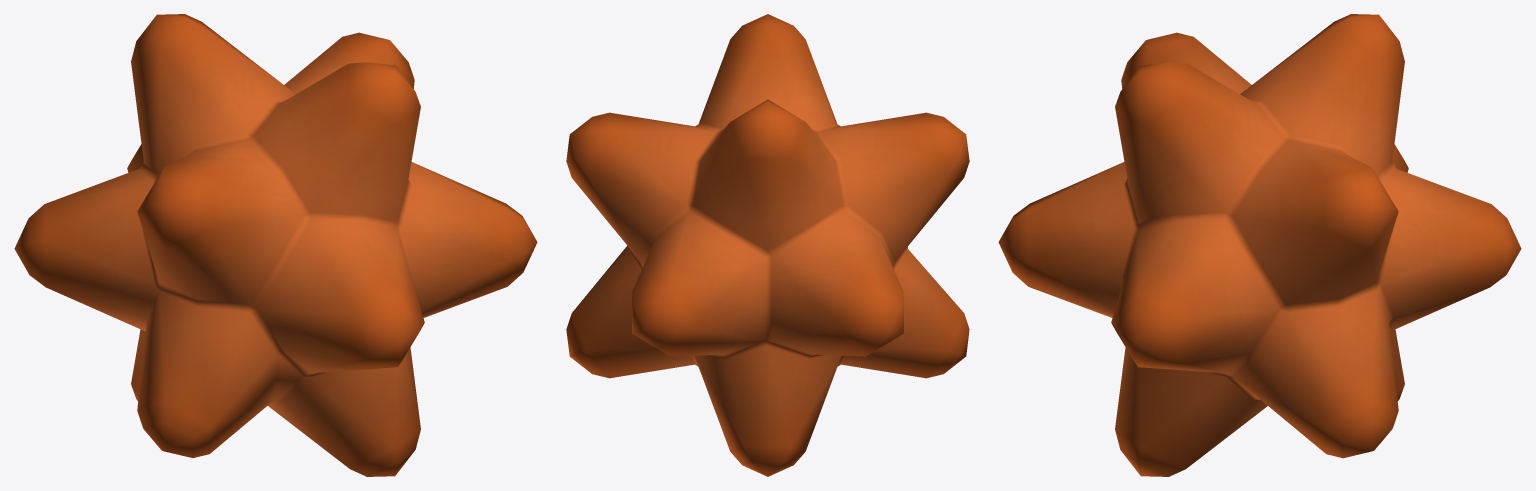
The model's file is scorpius-fragment.glb.
The picture shows the model from 3 angles, left to right: view 1: azimuth 30°, elevation 25°; view 2: azimuth 150°, elevation 25°; view 3: azimuth 270°, elevation 25°; orthographic projection. The views are drawn at different scales.
Size of the model in its own units: 3.1 by 3.05 by 3.52.
Materials: 1 (1 with a texture image).
